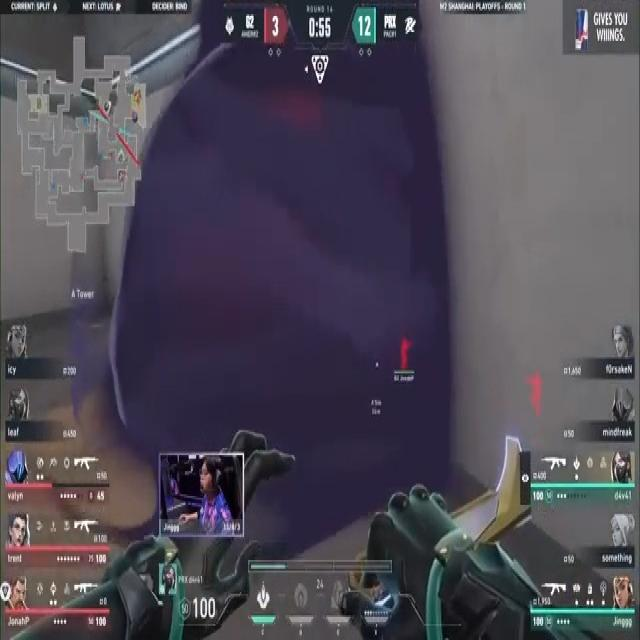enemy behind wall: (524, 366, 547, 416), (392, 330, 414, 376)
smoke: (125, 36, 444, 504)
